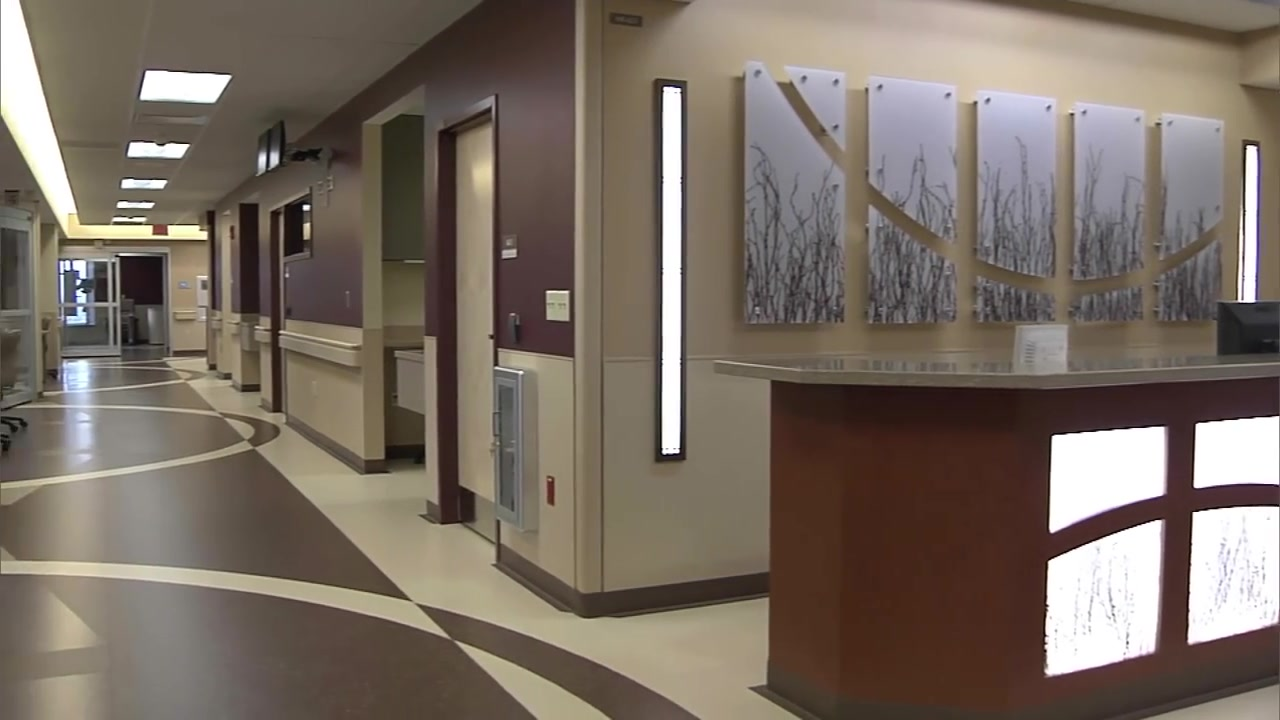TV: (254, 119, 286, 177)
chair: (1, 326, 28, 435)
computer: (1217, 298, 1280, 356), (1016, 325, 1075, 373)
counter: (706, 343, 1280, 720)
countertop: (710, 348, 1280, 390), (388, 341, 430, 356)
hallway_assist_bar: (279, 329, 363, 369), (255, 326, 272, 344), (173, 310, 198, 321), (227, 320, 242, 336), (211, 318, 222, 330)
handle: (506, 314, 519, 344), (492, 410, 502, 438)
light_switch: (544, 290, 571, 322)
